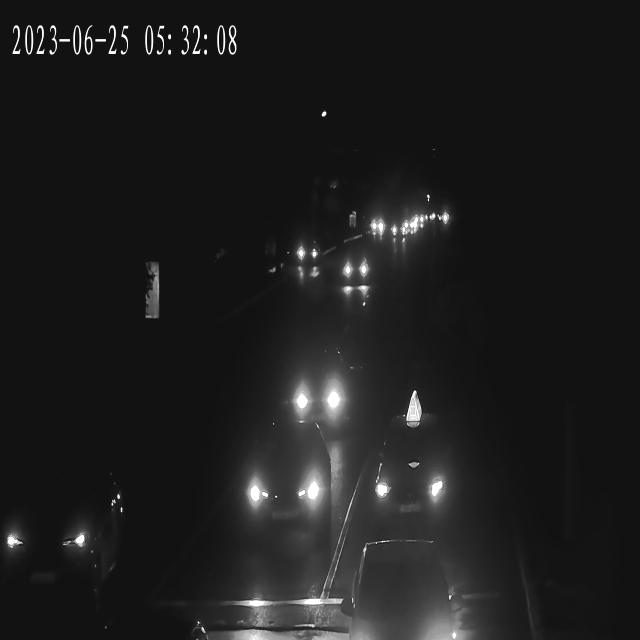Car: (2, 468, 130, 603), (242, 429, 332, 563), (374, 409, 458, 528), (351, 545, 451, 640), (292, 352, 356, 439), (337, 252, 374, 292), (291, 234, 322, 278), (400, 205, 420, 242), (365, 210, 388, 238), (428, 208, 454, 227), (393, 218, 408, 243)
